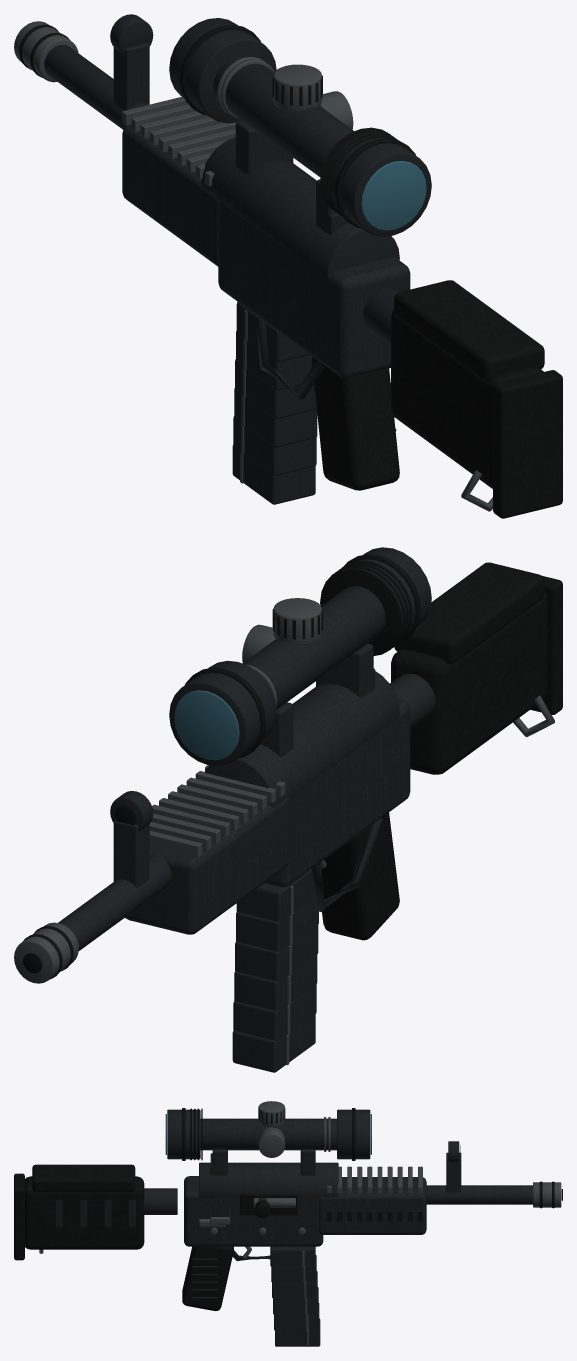
3 views of the same model, one above another, from view 1: azimuth 30°, elevation 25°; view 2: azimuth 150°, elevation 25°; view 3: azimuth 270°, elevation 25° (orthographic). The views are drawn at different scales.
Visible parts, largest first — view 1: weapon_Weapon finish / Parkerized steel, weapon_Parkerized steel, weapon_Polymer, weapon_Weapon finish / Polymer, magazine_Parkerized steel, weapon_Machined edges, weapon_Coated scope glass, magazine_Machined edges; view 2: weapon_Weapon finish / Parkerized steel, weapon_Parkerized steel, weapon_Weapon finish / Polymer, weapon_Polymer, magazine_Parkerized steel, weapon_Machined edges, weapon_Coated scope glass, magazine_Machined edges; view 3: weapon_Weapon finish / Parkerized steel, weapon_Parkerized steel, weapon_Weapon finish / Polymer, weapon_Polymer, magazine_Parkerized steel, weapon_Machined edges, bolt_Machined edges.
Part boxes in pixels (x1,y1,x2,y2): weapon_Weapon finish / Parkerized steel: [122, 125, 410, 378]; weapon_Parkerized steel: [44, 14, 431, 431]; weapon_Polymer: [19, 24, 562, 518]; weapon_Weapon finish / Polymer: [391, 280, 544, 488]; magazine_Parkerized steel: [232, 302, 317, 504]; weapon_Machined edges: [14, 21, 492, 511]; weapon_Coated scope glass: [361, 161, 426, 230]; magazine_Machined edges: [240, 310, 247, 483]; weapon_Weapon finish / Parkerized steel: [125, 671, 410, 934]; weapon_Parkerized steel: [58, 547, 435, 950]; weapon_Weapon finish / Polymer: [391, 562, 547, 774]; weapon_Polymer: [22, 554, 562, 979]; magazine_Parkerized steel: [232, 869, 318, 1072]; weapon_Machined edges: [14, 598, 554, 983]; weapon_Coated scope glass: [174, 690, 239, 760]; magazine_Machined edges: [286, 885, 293, 1065]; weapon_Weapon finish / Parkerized steel: [184, 1162, 426, 1246]; weapon_Parkerized steel: [56, 1109, 532, 1298]; weapon_Weapon finish / Polymer: [25, 1164, 144, 1249]; weapon_Polymer: [14, 1108, 562, 1310]; magazine_Parkerized steel: [270, 1246, 320, 1346]; weapon_Machined edges: [39, 1101, 561, 1253]; bolt_Machined edges: [253, 1198, 295, 1207].
Size of the model in its own units: 0.1329 by 0.4275 by 0.905.
Materials: 6 (5 with a texture image).
